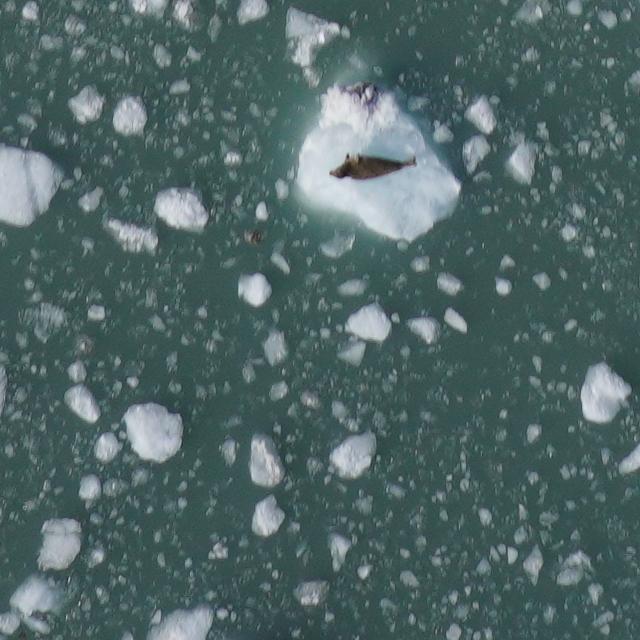seal: (322, 148, 422, 185)
